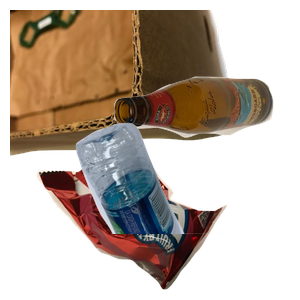cardboard: (10, 10, 237, 158)
glass: (111, 74, 300, 204)
plastic: (73, 120, 300, 300)
trash: (34, 136, 253, 300)
